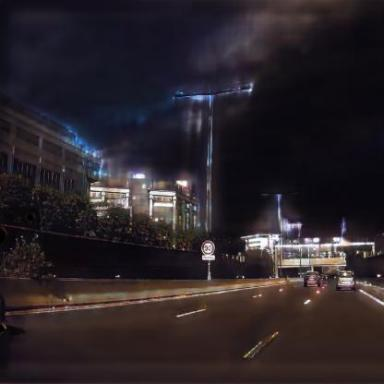Speed_limit_90: (202, 241, 215, 256)
